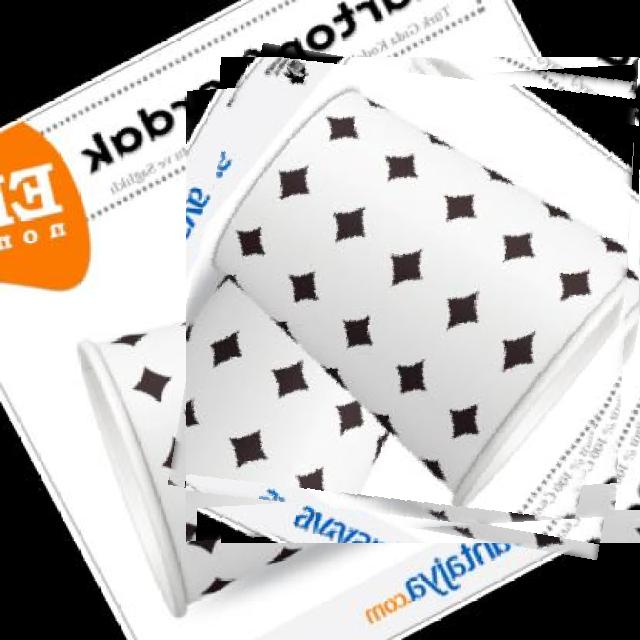non-biodegradable: (186, 57, 640, 543)
